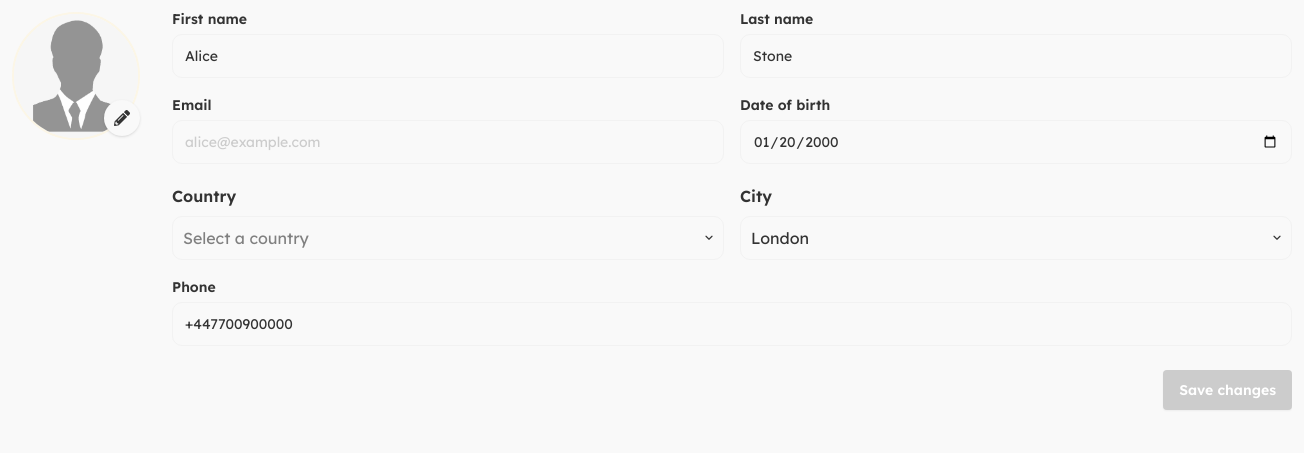
Test case: EditProfileTab › validates phone number before allowing save
Replace the text in the field labelled "Phone" with "invalid-phone". click: (732, 324)
box: [185,314,1279,334]
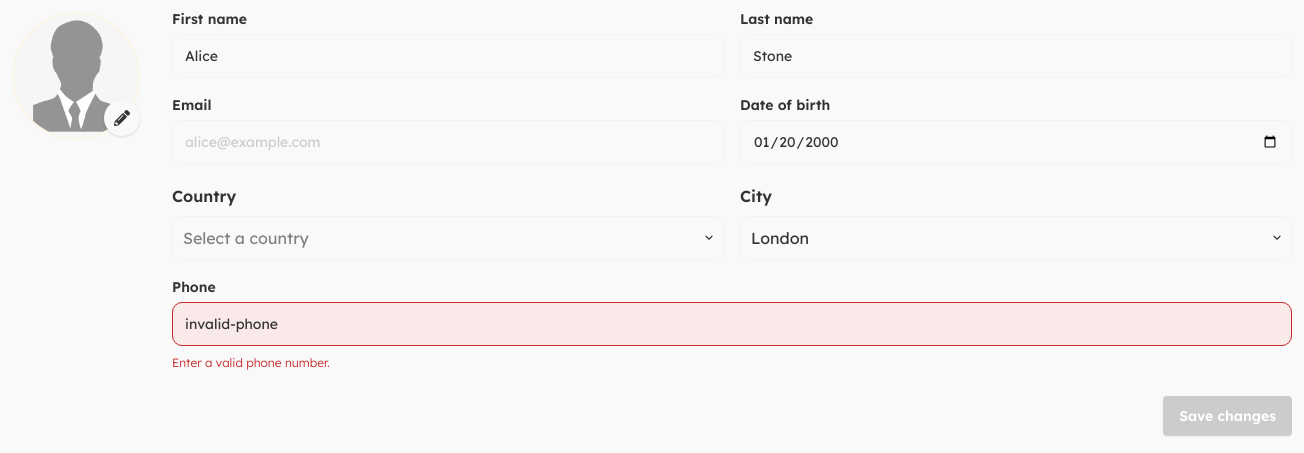
Expected: the button "Save changes" is disabled, [1163,396,1292,436]
Expected: the text "Enter a valid phone number." is shown, [172,355,330,370]
Replace the text in the field labelled "Phone" with "+447700900123". click: (732, 324)
box: [185,314,1279,334]
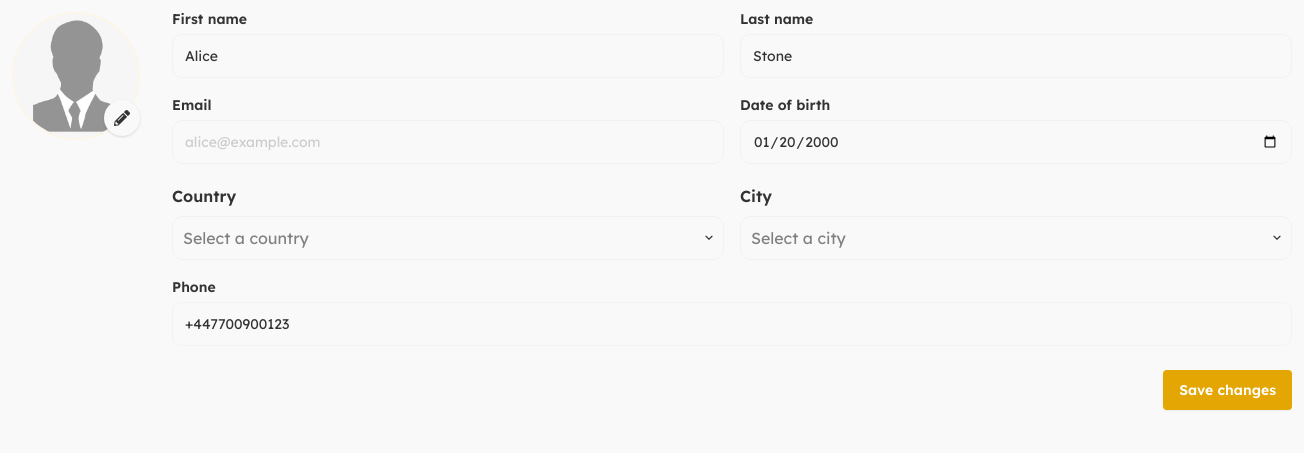
Expected: the text "Enter a valid phone number." is gone
Expected: the button "Save changes" is enabled, [1163,370,1292,410]
